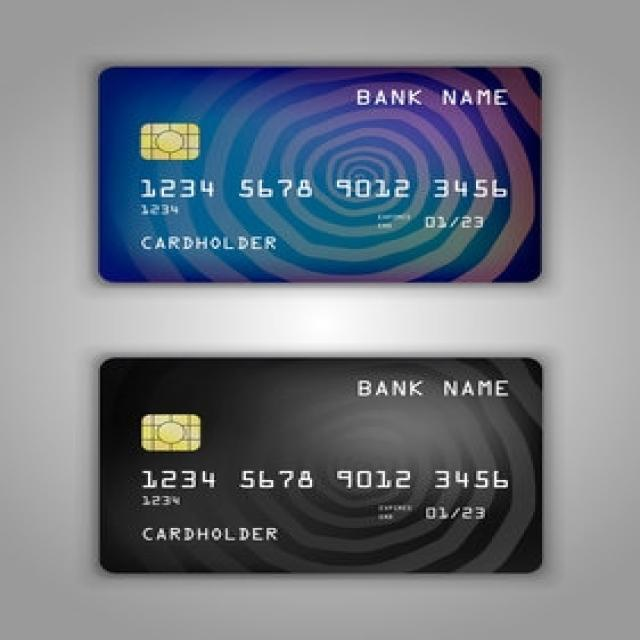payment_card: (95, 63, 544, 284), (97, 355, 544, 574)
